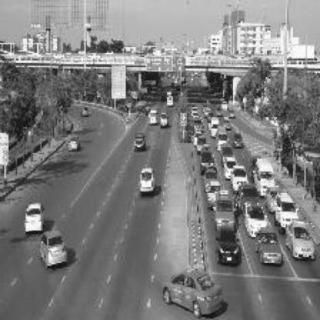other: (157, 260, 229, 314), (284, 215, 314, 267)
